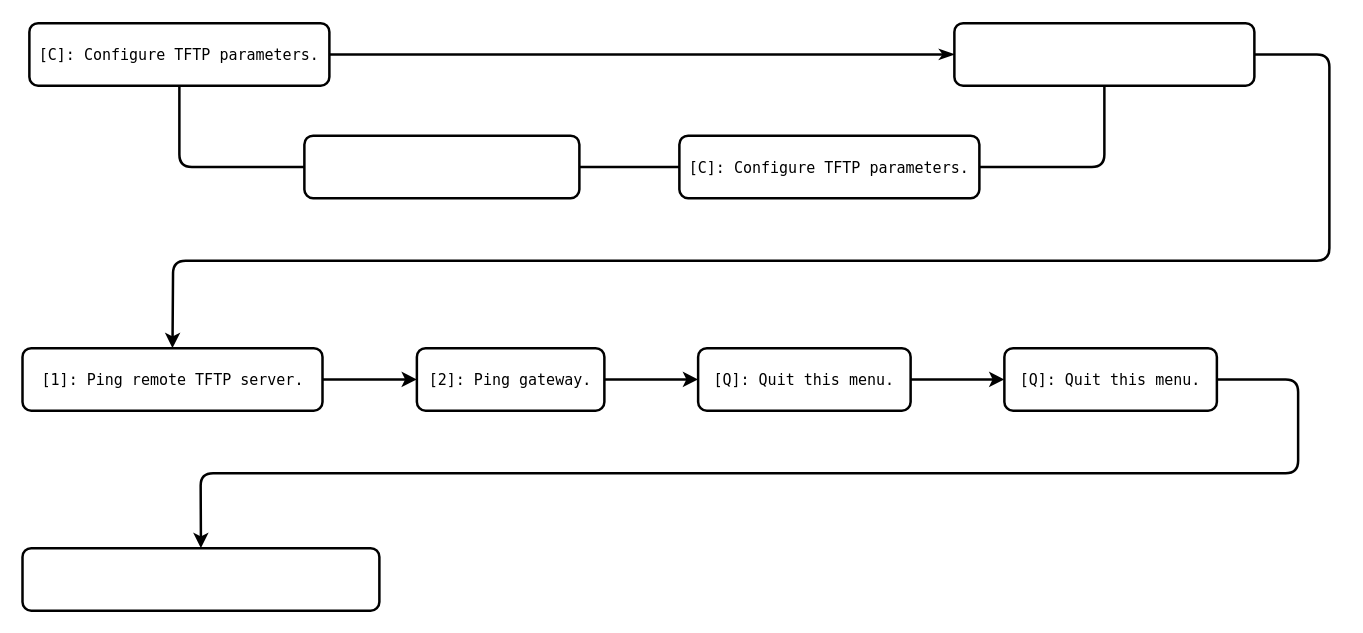
Image size: 1363x633. Some labels were removed from this diagram. Here are the shapes that lost their labels. From the top down, the centre of each, then its label:
point 1103,53: [N]: Diagnose networking(ping).
point 441,166: [R]: Review TFTP parameters.
point 200,578: [T]: Initiate TFTP firmware transfer.
